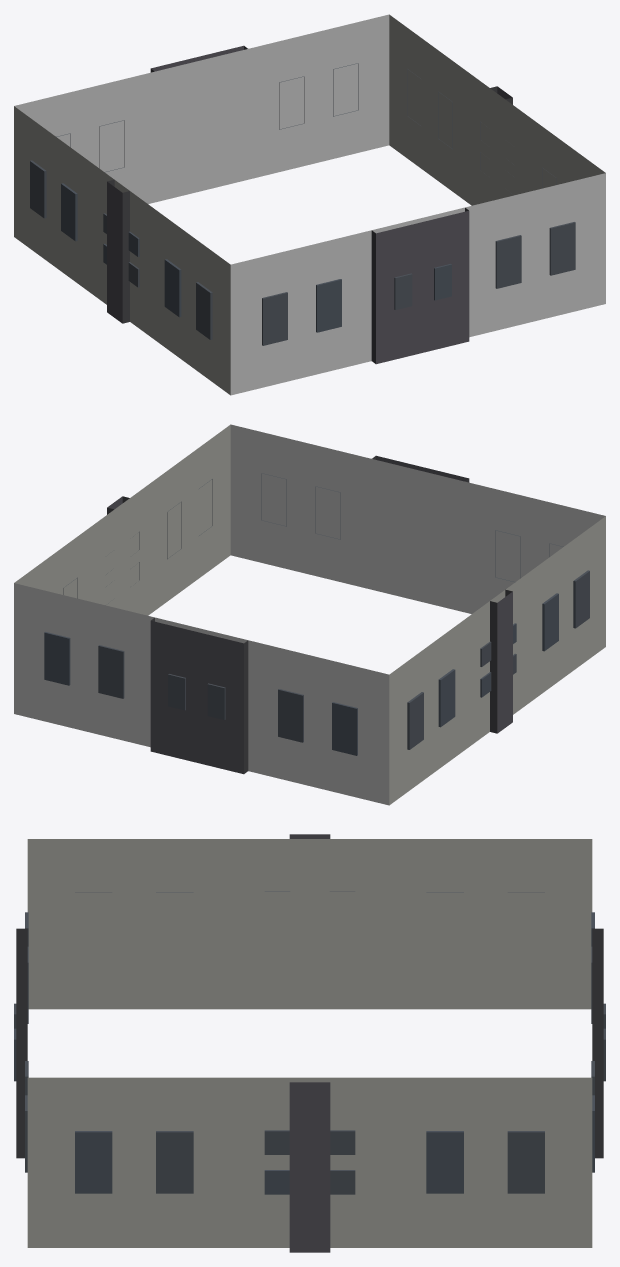
The model's file is TB_CITY_Skysc_Q_MidBodyA_Gray.FBX.
3 renders of one model, top to bottom at view 1: azimuth 30°, elevation 25°; view 2: azimuth 150°, elevation 25°; view 3: azimuth 270°, elevation 25°, orthographic. The views are drawn at different scales.
Visible parts, largest first — view 1: TB_CITY_Skysc_Q_MidBodyA_Gray; view 2: TB_CITY_Skysc_Q_MidBodyA_Gray; view 3: TB_CITY_Skysc_Q_MidBodyA_Gray.
Part boxes in pixels (<box>): TB_CITY_Skysc_Q_MidBodyA_Gray: <box>14,14,605,395</box>; TB_CITY_Skysc_Q_MidBodyA_Gray: <box>14,424,605,805</box>; TB_CITY_Skysc_Q_MidBodyA_Gray: <box>14,834,605,1252</box>.
Bounding box in the file's own units: 15.6 × 5 × 15.73.
